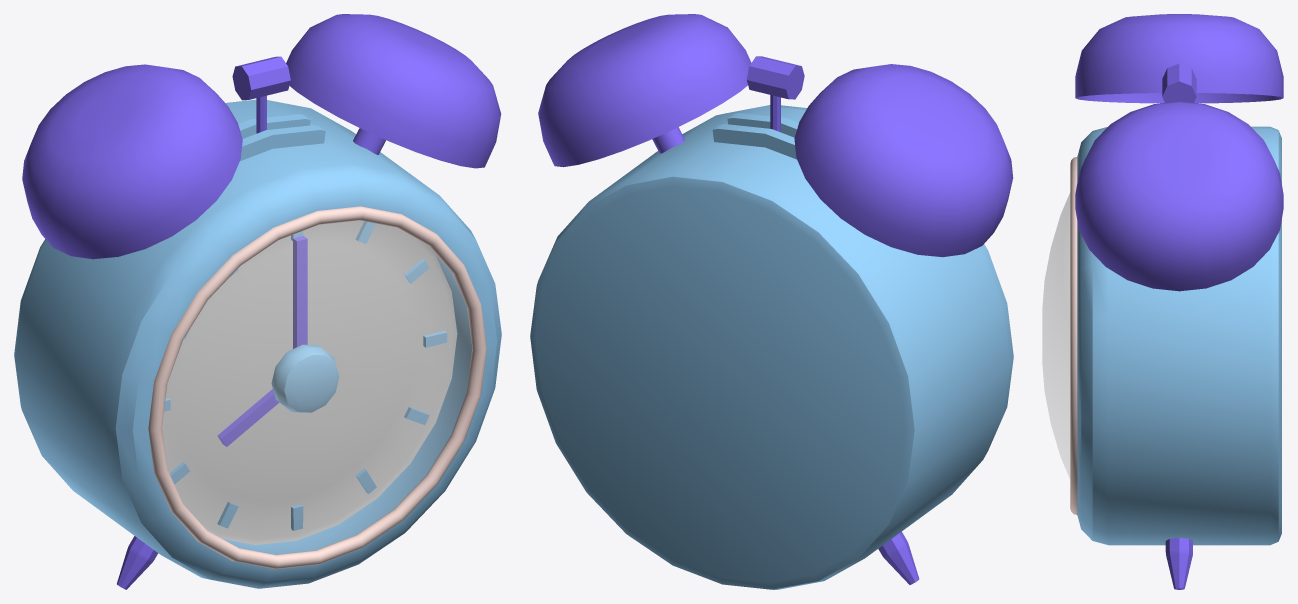
The model's file is clock-draco.glb.
The picture shows the model from 3 angles, left to right: view 1: azimuth 30°, elevation 25°; view 2: azimuth 150°, elevation 25°; view 3: azimuth 270°, elevation 25°; orthographic projection. The views are drawn at different scales.
Visible parts, largest first — view 1: Circle.004, Circle.005; view 2: Circle.004; view 3: Circle.004, Circle.005.
Part boxes in pixels (x1,y1,x2,y2): Circle.004: (14,14,501,589); Circle.005: (148,206,486,569); Circle.004: (530,14,1013,589); Circle.004: (1042,14,1283,589); Circle.005: (1070,157,1077,514).
Bounding box in the file's own units: 2.27 × 2.44 × 1.15.
